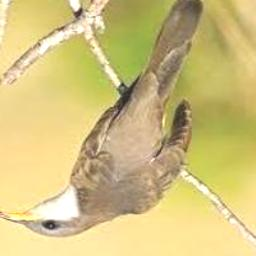Cuckoo: (0, 0, 207, 236)
